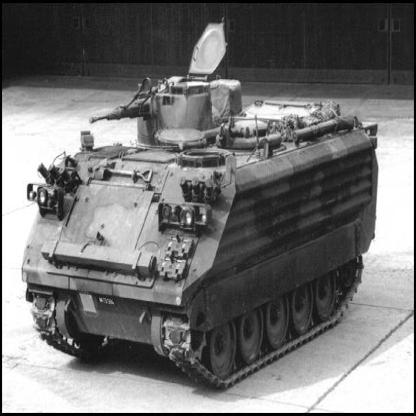Tank: (18, 37, 381, 392)
